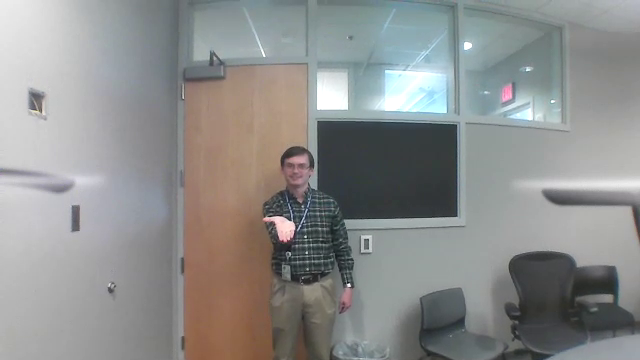land: (259, 214, 300, 248)
